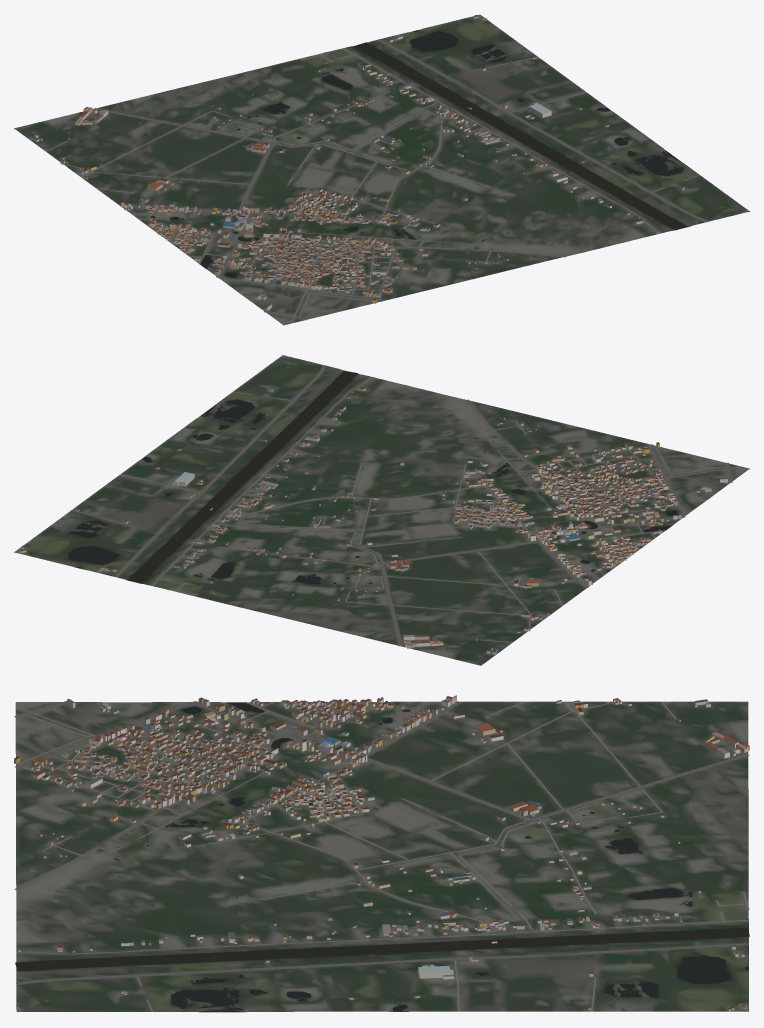
3 renders of one model, top to bottom at view 1: azimuth 30°, elevation 25°; view 2: azimuth 150°, elevation 25°; view 3: azimuth 270°, elevation 25°, orthographic. The views are drawn at different scales.
Parts seen in each view (by area): view 1: ground, buildings, roads, water; view 2: ground, buildings, roads, water; view 3: ground, buildings, water, roads.
Boxes of the visible parts, x1,y1,x2,y2 form: ground: (14,14,749,325); buildings: (29,15,684,310); roads: (45,15,748,323); water: (151,30,687,277); ground: (14,355,749,665); buildings: (18,377,727,654); roads: (16,356,741,646); water: (67,370,677,586); ground: (15,701,748,1012); buildings: (14,695,749,1011); water: (15,702,749,1011); roads: (14,701,749,1011).
Size of the model in its own units: 1409 by 22.4 by 1408.
